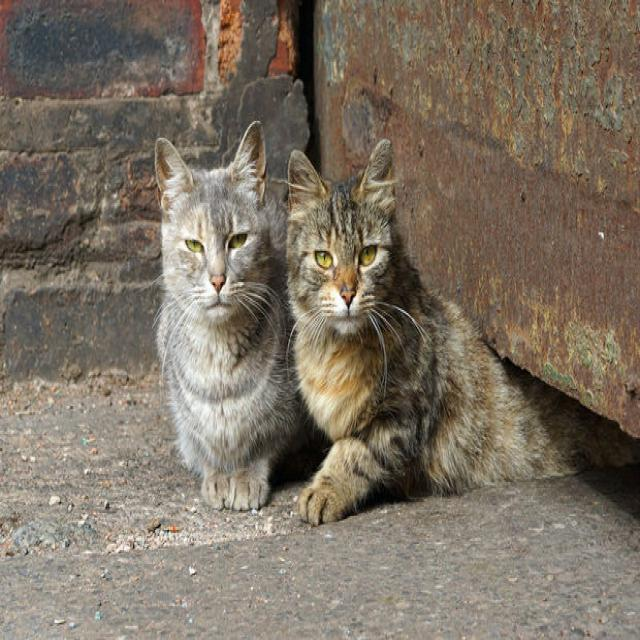cat: (288, 141, 640, 524), (155, 122, 312, 509)
